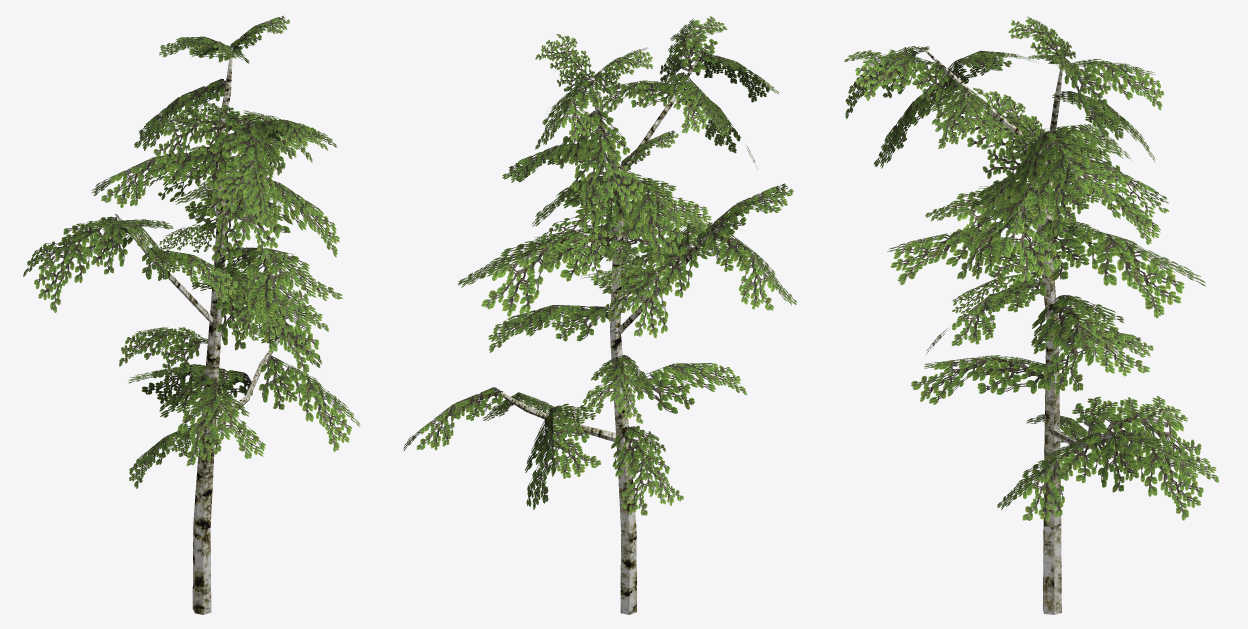
File: SM_BirchA.glb
3 renders of one model, left to right at view 1: azimuth 30°, elevation 25°; view 2: azimuth 150°, elevation 25°; view 3: azimuth 270°, elevation 25°, orthographic. The views are drawn at different scales.
Parts seen in each view (by area): view 1: SM_BirchA; view 2: SM_BirchA; view 3: SM_BirchA.
Part boxes in pixels (x1=…): SM_BirchA: x1=23, y1=15, x2=360, y2=614; SM_BirchA: x1=403, y1=16, x2=797, y2=614; SM_BirchA: x1=844, y1=16, x2=1218, y2=614.
Bounding box in the file's own units: 8.04 × 13 × 7.94.
1 material, 1 textured.
